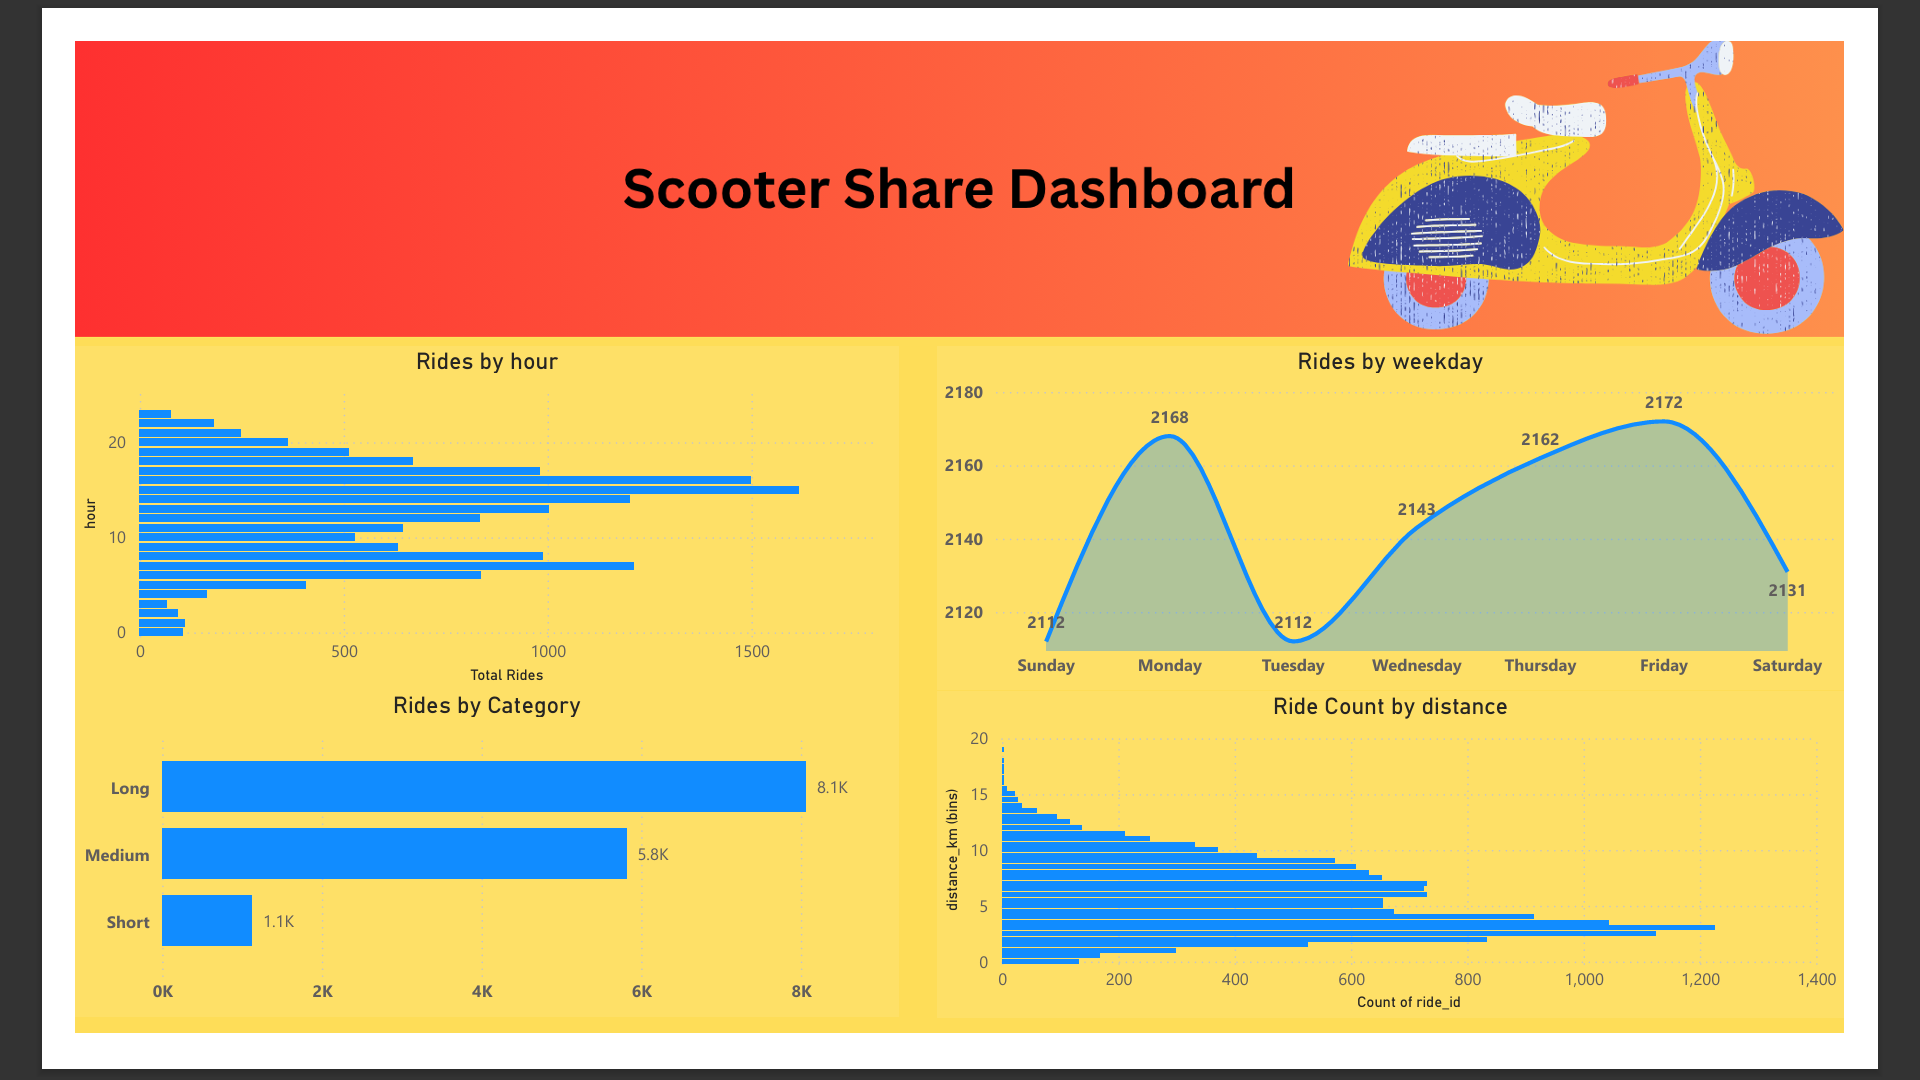

The dashboard page shown, as its layout file describes it:
{"tool":"powerbi","page":{"name":"Ride Quality & Duration","canvas":[1280,720],"ordinal":1},"visuals":[{"type":"clusteredBarChart","title":" Rides by Category","fields":{"Category":["rides.Ride Category dis"],"Y":["rides measurements.Total Rides"]},"box":[0,470,595.7,235.7],"z":0},{"type":"clusteredBarChart","title":"Ride Count by distance","fields":{"Category":["rides.distance_km (bins)"],"Y":["CountNonNull(rides.ride_id)"]},"box":[624.3,471.4,655.7,235.7],"z":1000},{"type":"clusteredBarChart","title":" Rides by hour","fields":{"Y":["rides measurements.Total Rides"],"Category":["rides.hour"]},"box":[0,221.4,595.7,248.6],"z":2000},{"type":"lineChart","title":" Rides by weekday","fields":{"Category":["rides.weekday"],"Y":["rides measurements.Total Rides"]},"box":[624.3,221.4,655.7,248.6],"z":3000}]}

Visuals, with their boxes in screenshot pixels (x1, y1, x2, y2), scaled from the page's 1280x720 canvas onto the 1920x1080 screenshot:
" Rides by Category" clusteredBarChart: 0, 705, 894, 1059
"Ride Count by distance" clusteredBarChart: 936, 707, 1919, 1061
" Rides by hour" clusteredBarChart: 0, 332, 894, 705
" Rides by weekday" lineChart: 936, 332, 1919, 705
